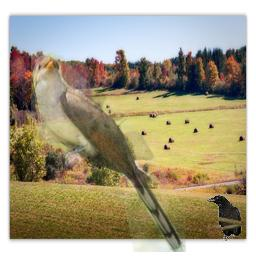Crow: (206, 195, 242, 241)
Cuckoo: (31, 52, 186, 252)
